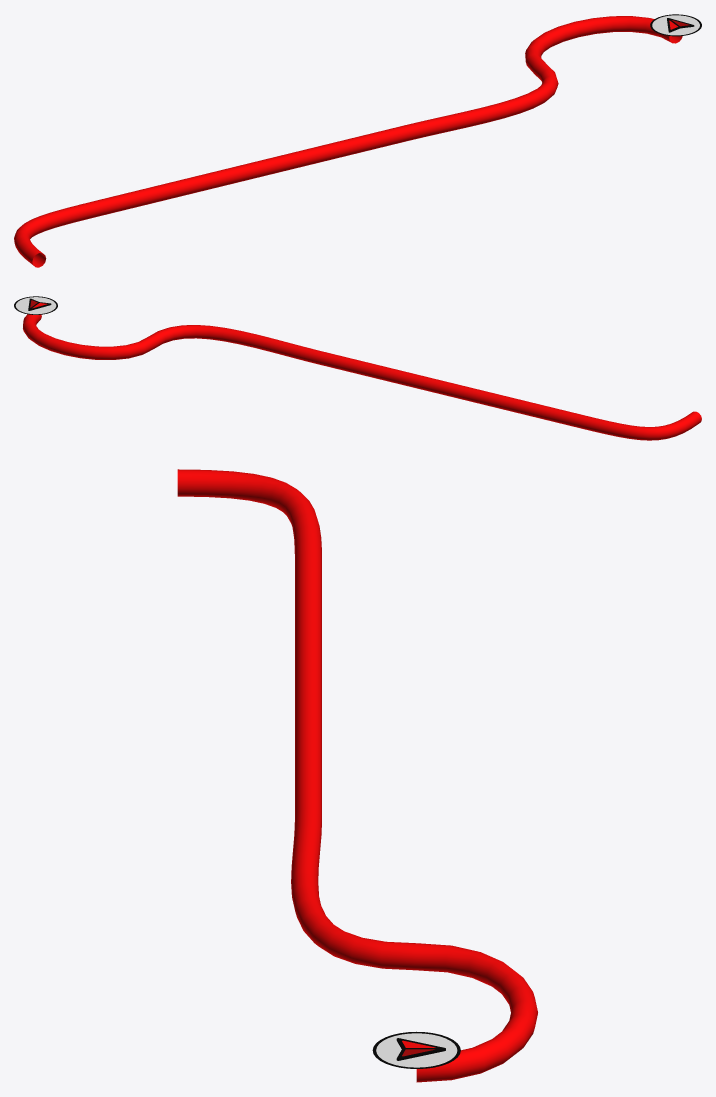
The model's file is route_fed12fbc-8dfb-48cb-b740-ad911466baa7_de_single.glb.
3 renders of one model, top to bottom at view 1: azimuth 30°, elevation 25°; view 2: azimuth 150°, elevation 25°; view 3: azimuth 270°, elevation 25°, orthographic. The views are drawn at different scales.
Parts seen in each view (by area): view 1: A1, Navipfeil.052; view 2: A1, Navipfeil.052; view 3: A1, Navipfeil.052.
Boxes of the visible parts, box(x1,y1,x2,y2) form: A1: box(14, 16, 682, 267); Navipfeil.052: box(650, 14, 701, 36); A1: box(23, 314, 701, 440); Navipfeil.052: box(14, 296, 57, 314); A1: box(177, 469, 537, 1082); Navipfeil.052: box(372, 1031, 460, 1068).
Bounding box in the file's own units: 4.25 × 0.1062 × 1.06.
